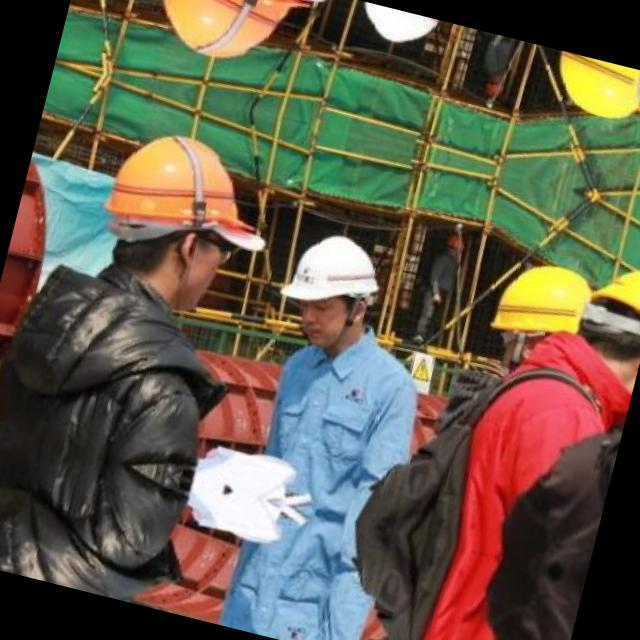helmet: (85, 118, 266, 320), (269, 220, 393, 356), (484, 254, 605, 380), (145, 0, 309, 79), (563, 242, 640, 407), (546, 50, 640, 128), (344, 0, 450, 58), (622, 71, 640, 173), (481, 72, 505, 100), (442, 230, 466, 257)
